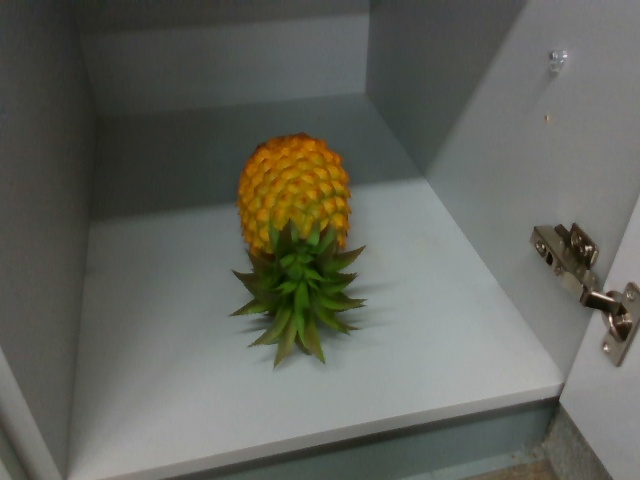pineapple: (232, 134, 370, 366)
